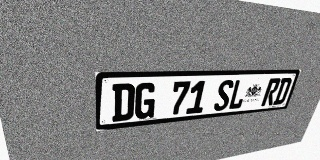1: (186, 81, 208, 114)
7: (168, 81, 191, 116)
D: (112, 83, 135, 122), (272, 78, 293, 105)
G: (134, 82, 157, 120)
L: (227, 79, 249, 110)
R: (261, 78, 281, 106)
S: (213, 80, 235, 111)
